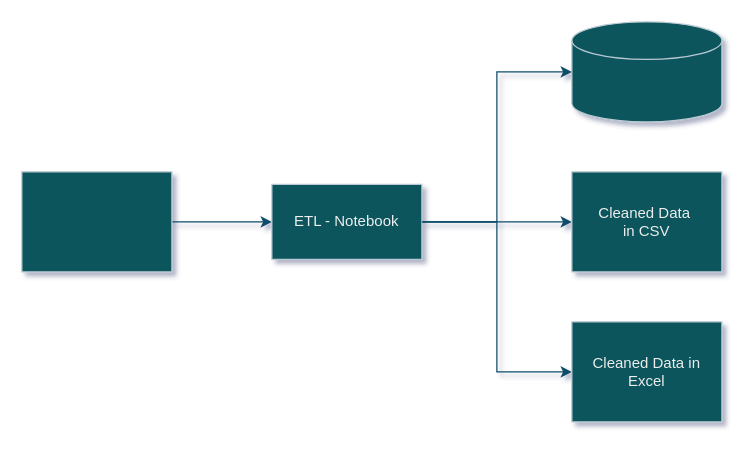
The diagram is 751 pixels wide and 451 high, and some of its shapes have lost their labels. Here are the shapes that lost their labels. From the top down, the centre of each, then its label:
At [646,71]: "PostgreSQL DB".
At [96,221]: "Uncleaned Data in CSV".
